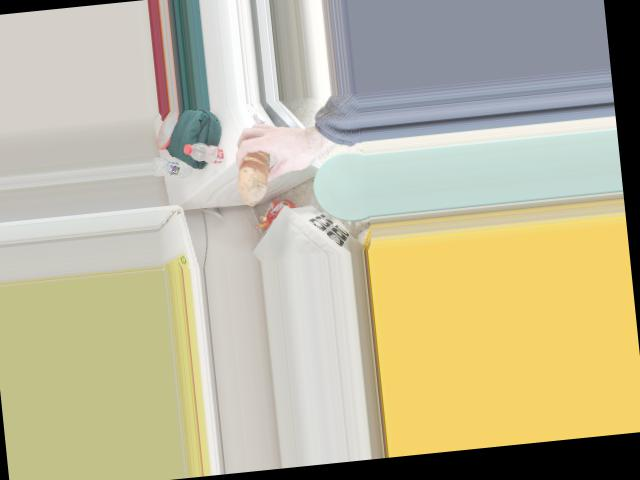sweet_potato: (232, 143, 281, 193)
